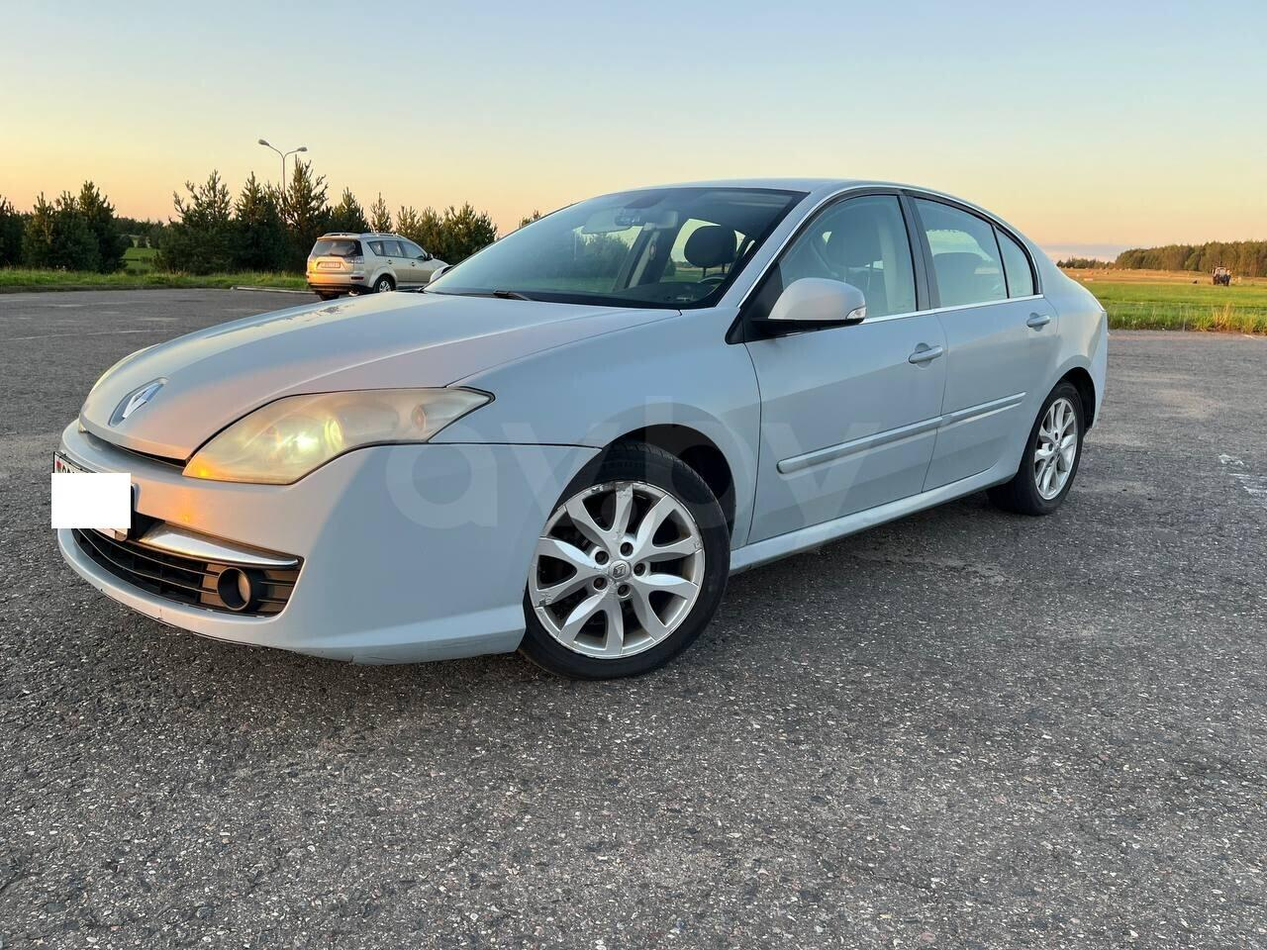Laguna_2007-2011: (53, 178, 1107, 678)
